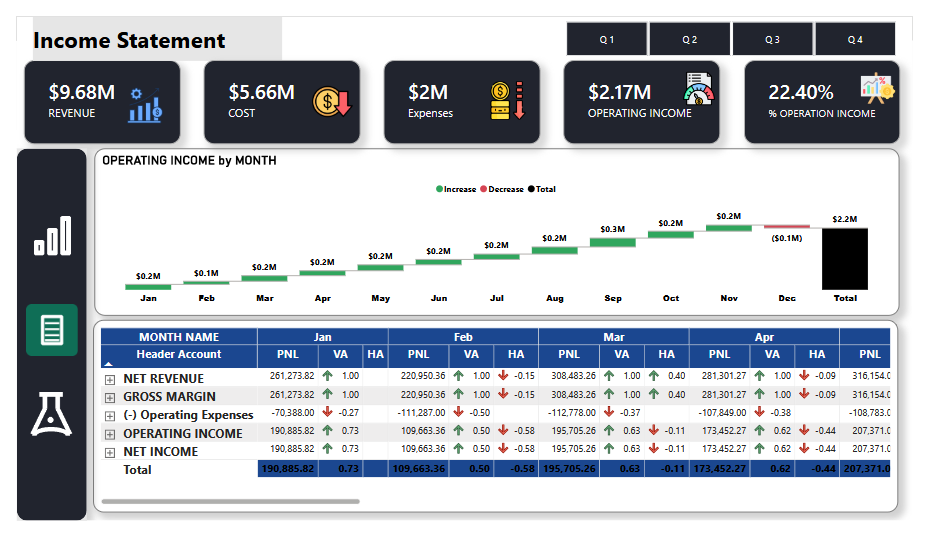

The page's visual inventory and layout, read from the dashboard file:
{"tool":"powerbi","page":{"name":"Income Statement","canvas":[1280,720],"ordinal":3},"visuals":[{"type":"cardVisual","fields":{"Data":["REVENUE CALCULATIONS.REVENUE"]},"box":[10.4,62.2,223.7,120],"z":0},{"type":"waterfallChart","title":"OPERATING INCOME by MONTH ","fields":{"Category":["CALENDER.MONTH NAME"],"Y":["INCOME CALCULATIONS.OPERATING INCOME"]},"box":[111.1,188.1,1149.6,238.5],"z":1000},{"type":"pivotTable","fields":{"Rows":["dAccountHeader.Header Account","dAccount.Subheader Account","dAccount.Detailed Account"],"Columns":["CALENDER.MONTH NAME"],"Values":["INCOME CALCULATIONS.PNL","INCOME CALCULATIONS.VA","INCOME CALCULATIONS.HA"]},"box":[109.4,433.4,1149.6,274.1],"z":2000},{"type":"shape","box":[0,188.3,100,531.7],"z":3000},{"type":"shape","box":[23,0,355.7,63.4],"z":4000},{"type":"image","box":[8.3,525,81.7,90],"z":5000},{"type":"image","box":[6.7,260,85,100],"z":6000},{"type":"image","box":[13.3,400,73.3,93.3],"z":7000},{"type":"cardVisual","fields":{"Data":["REVENUE CALCULATIONS.COST"]},"box":[267.4,62.2,223.7,120],"z":8000},{"type":"cardVisual","fields":{"Data":["INCOME CALCULATIONS.Expenses"]},"box":[524.4,62.2,223.7,120],"z":9000},{"type":"cardVisual","fields":{"Data":["INCOME CALCULATIONS.OPERATING INCOME"]},"box":[781.5,62.2,223.7,120],"z":10000},{"type":"cardVisual","fields":{"Data":["INCOME CALCULATIONS.% OPERATION INCOME"]},"box":[1038.5,62.2,223.7,120],"z":11000},{"type":"image","box":[152.6,99.4,60.5,54.7],"z":12000},{"type":"image","box":[420.5,92.2,59,59],"z":13000},{"type":"image","box":[673.9,92.2,54.7,54.7],"z":14000},{"type":"image","box":[1199.5,76.3,59,51.8],"z":15000},{"type":"image","box":[943.2,77.8,61.9,49],"z":16000},{"type":"slicer","fields":{"Values":["CALENDER.QTY"]},"box":[758.9,0,521.3,63.4],"z":17000}]}

Visuals, with their boxes in screenshot pixels (x1, y1, x2, y2), scaled from the page's 1280x720 canvas onto the 929x537 screenshot:
cardVisual - REVENUE CALCULATIONS.REVENUE: [8,46,170,136]
"OPERATING INCOME by MONTH " waterfallChart: [81,140,915,318]
pivotTable - dAccountHeader.Header Account x dAccount.Subheader Account: [79,323,914,528]
shape: [0,140,73,536]
shape: [17,0,275,47]
image: [6,392,65,459]
image: [5,194,67,268]
image: [10,298,63,368]
cardVisual - REVENUE CALCULATIONS.COST: [194,46,356,136]
cardVisual - INCOME CALCULATIONS.Expenses: [381,46,543,136]
cardVisual - INCOME CALCULATIONS.OPERATING INCOME: [567,46,730,136]
cardVisual - INCOME CALCULATIONS.% OPERATION INCOME: [754,46,916,136]
image: [111,74,155,115]
image: [305,69,348,113]
image: [489,69,529,110]
image: [871,57,913,96]
image: [685,58,729,95]
slicer - CALENDER.QTY: [551,0,928,47]
